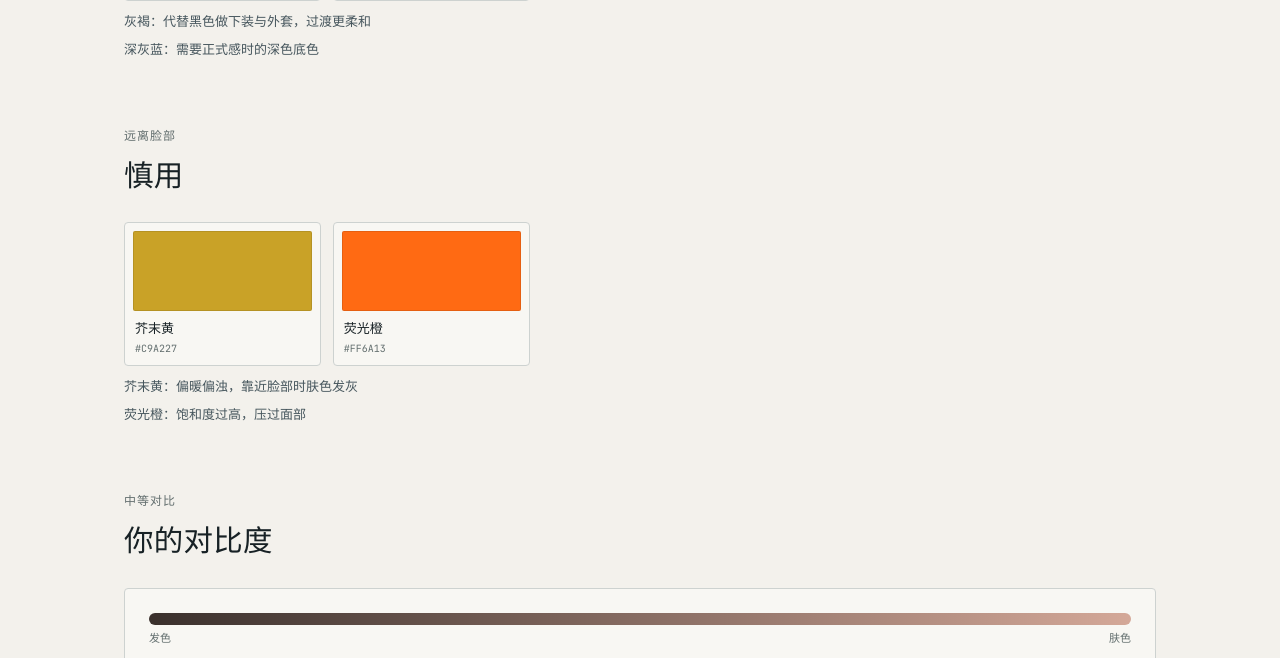
ColorPage › selecting a swatch shows its search phrase
This screenshot has width=1280, height=658.
(page scrolled)
What coordinates should you click on to do the following:
click the button "芥末黄 #C9A227"
I would click on:
 (222, 294)
Its box is [124,222,321,366].
(page scrolled)
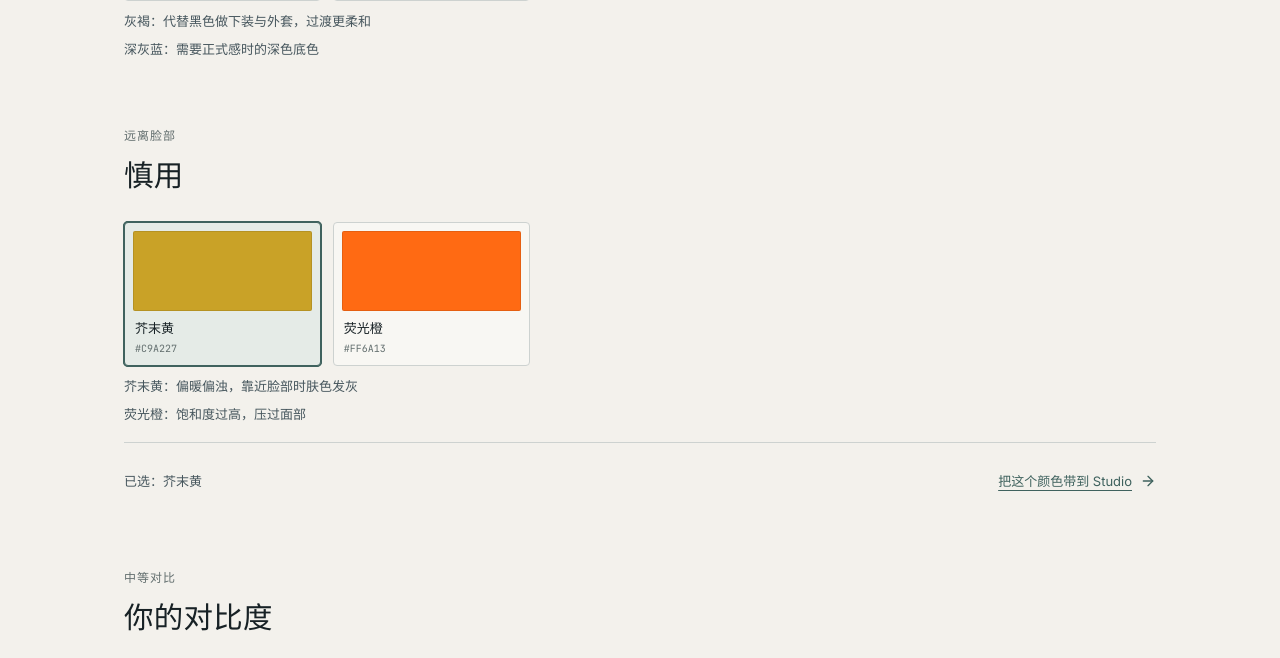
Check: the text "已选：芥末黄" is shown, box [124,470,202,493]
